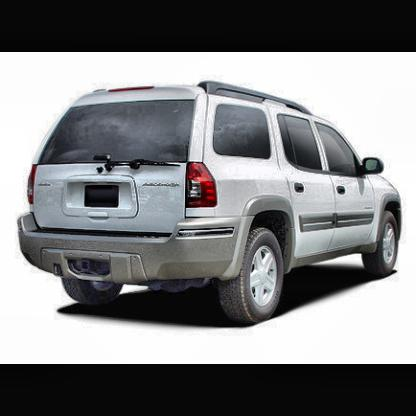Isuzu Ascender SUV 2008: (18, 79, 405, 320)
